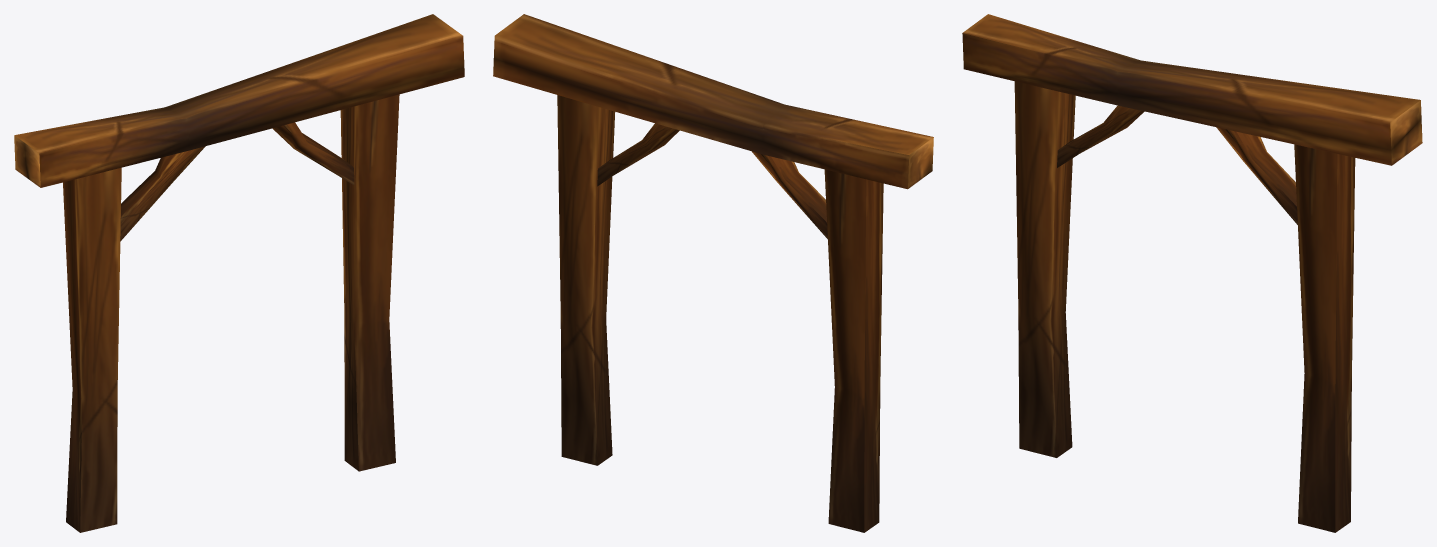
Rendered from gate_2.fbx.
3 renders of one model, left to right at view 1: azimuth 30°, elevation 25°; view 2: azimuth 150°, elevation 25°; view 3: azimuth 330°, elevation 25°, orthographic. The views are drawn at different scales.
Parts seen in each view (by area): view 1: gate_2; view 2: gate_2; view 3: gate_2.
Boxes of the visible parts, x1,y1,x2,y2 form: gate_2: (14, 14, 464, 532); gate_2: (493, 14, 933, 532); gate_2: (962, 14, 1422, 532).
Size of the model in its own units: 3.07 by 2.91 by 0.378.
